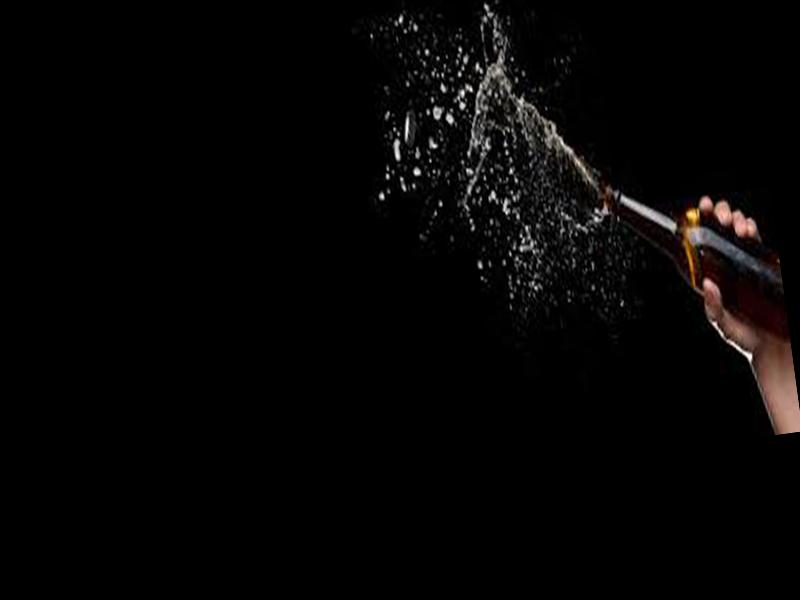Beer: (602, 159, 789, 367)
